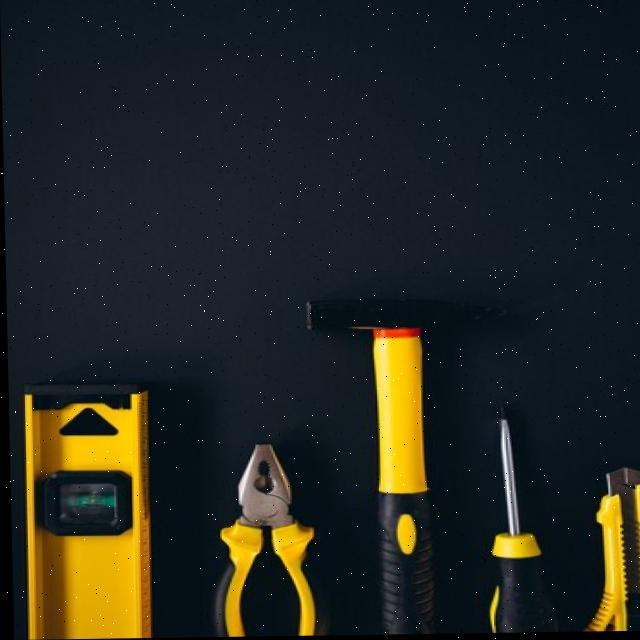Screwdriver: (487, 417, 555, 634)
